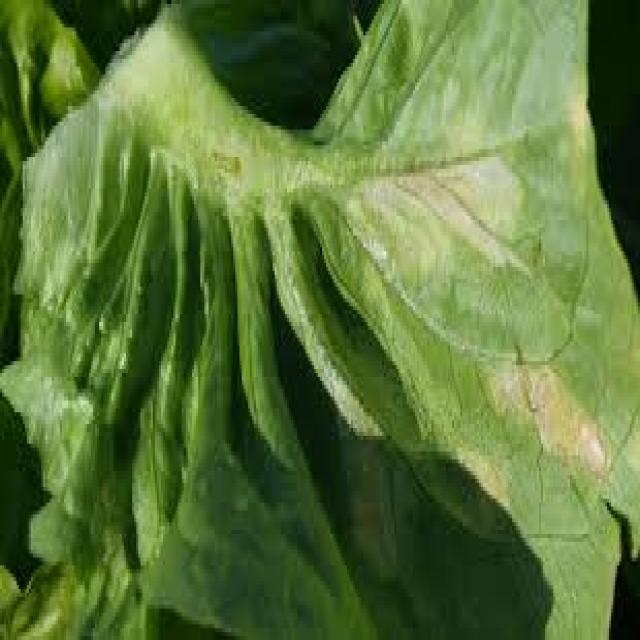Downy_Mildew: (318, 125, 636, 518)
